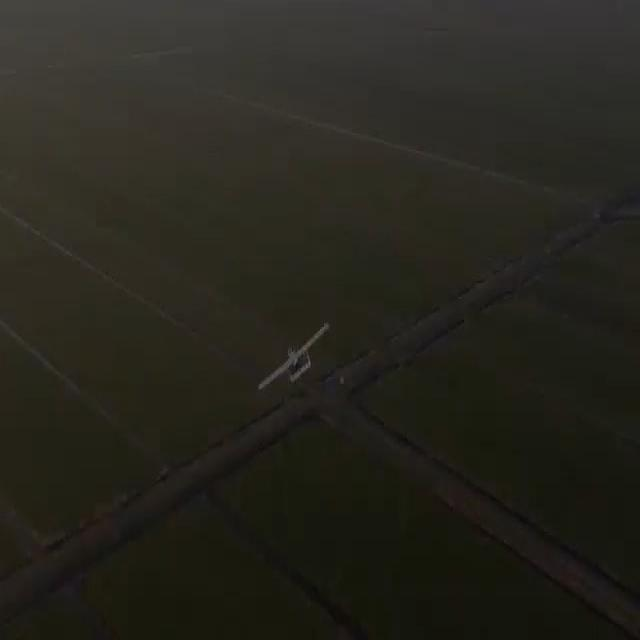iha: (284, 341, 300, 370)
